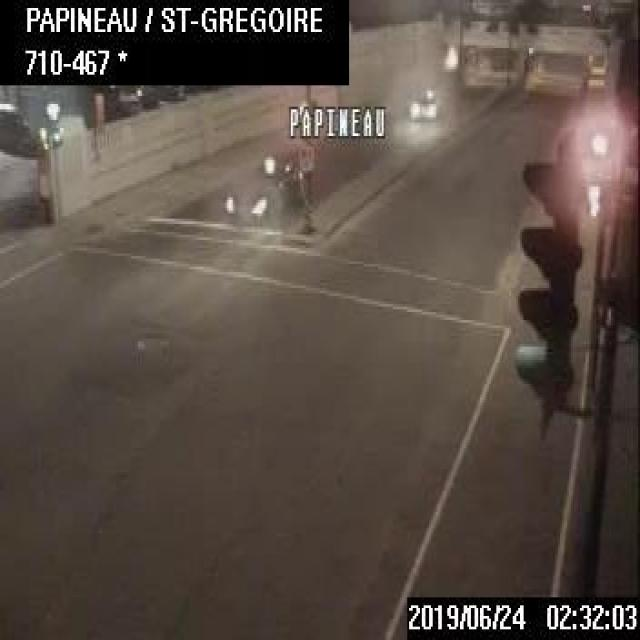vehicle: (220, 172, 278, 219), (260, 143, 306, 185), (407, 83, 440, 117)
